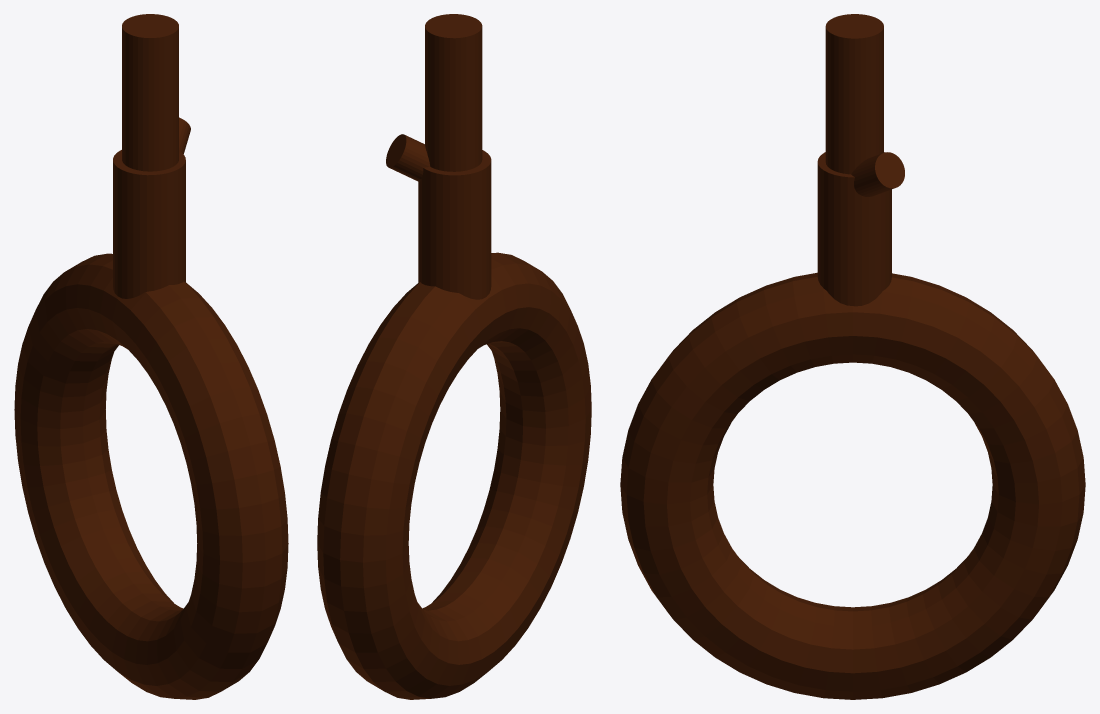
The model's file is Transcendence.obj.
The picture shows the model from 3 angles, left to right: view 1: azimuth 30°, elevation 25°; view 2: azimuth 150°, elevation 25°; view 3: azimuth 270°, elevation 25°; orthographic projection.
Visible parts, largest first — view 1: Torus, Cylinder_Cylinder.004, Cylinder.001; view 2: Torus, Cylinder_Cylinder.004, Cylinder.001, Cylinder.002_Cylinder.005; view 3: Torus, Cylinder_Cylinder.004, Cylinder.001, Cylinder.002_Cylinder.005.
Part boxes in pixels (x1,y1,x2,y2): Torus: (14, 253, 288, 699); Cylinder_Cylinder.004: (113, 150, 185, 298); Cylinder.001: (122, 14, 178, 171); Torus: (317, 252, 591, 699); Cylinder_Cylinder.004: (418, 150, 491, 299); Cylinder.001: (425, 14, 482, 171); Cylinder.002_Cylinder.005: (386, 134, 430, 181); Torus: (620, 272, 1085, 699); Cylinder_Cylinder.004: (817, 152, 891, 306); Cylinder.001: (825, 14, 883, 174); Cylinder.002_Cylinder.005: (851, 152, 904, 196).
Size of the model in its own units: 0.5813 by 3.97 by 2.5.
